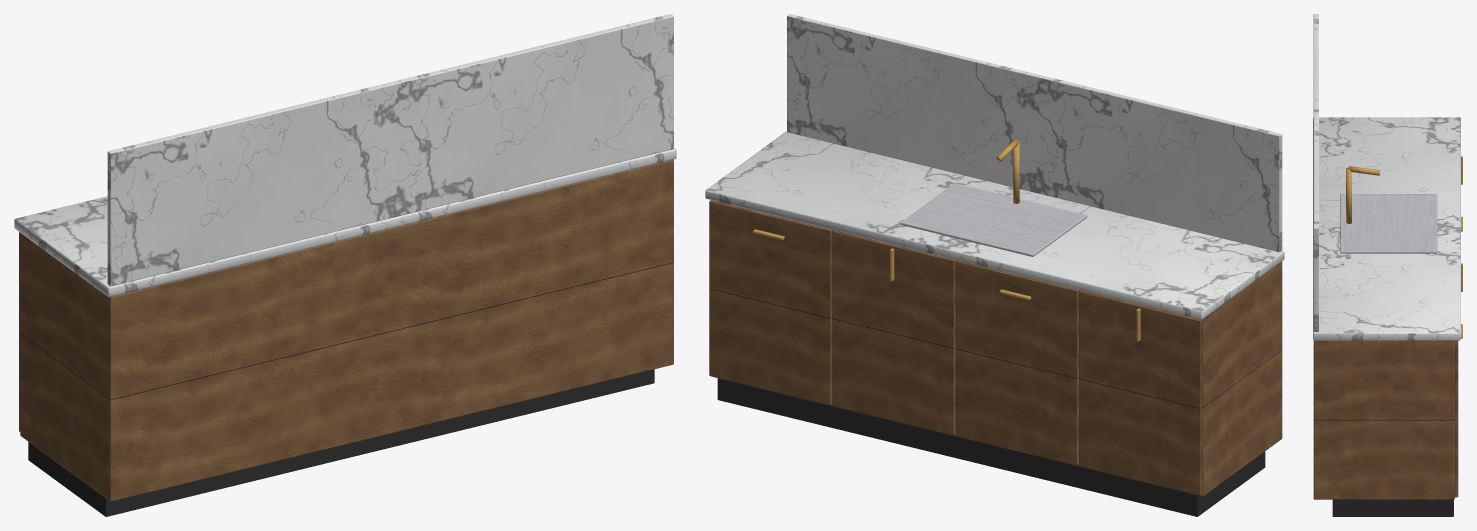
File: kitchen_run_south.glb
3 renders of one model, left to right at view 1: azimuth 30°, elevation 25°; view 2: azimuth 150°, elevation 25°; view 3: azimuth 270°, elevation 25°, orthographic. The views are drawn at different scales.
Visible parts, largest first — view 1: kitchen_run_south; view 2: kitchen_run_south; view 3: kitchen_run_south.
Boxes of the visible parts, x1,y1,x2,y2 form: kitchen_run_south: (14,14,676,516); kitchen_run_south: (705,14,1284,516); kitchen_run_south: (1313,14,1462,516).
Bounding box in the file's own units: 2.32 × 1.46 × 0.679.
5 materials, 4 textured.
